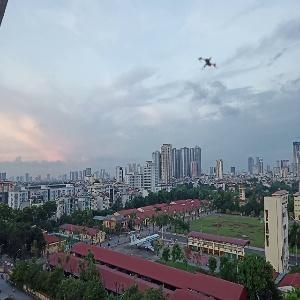drone: (190, 46, 229, 85)
